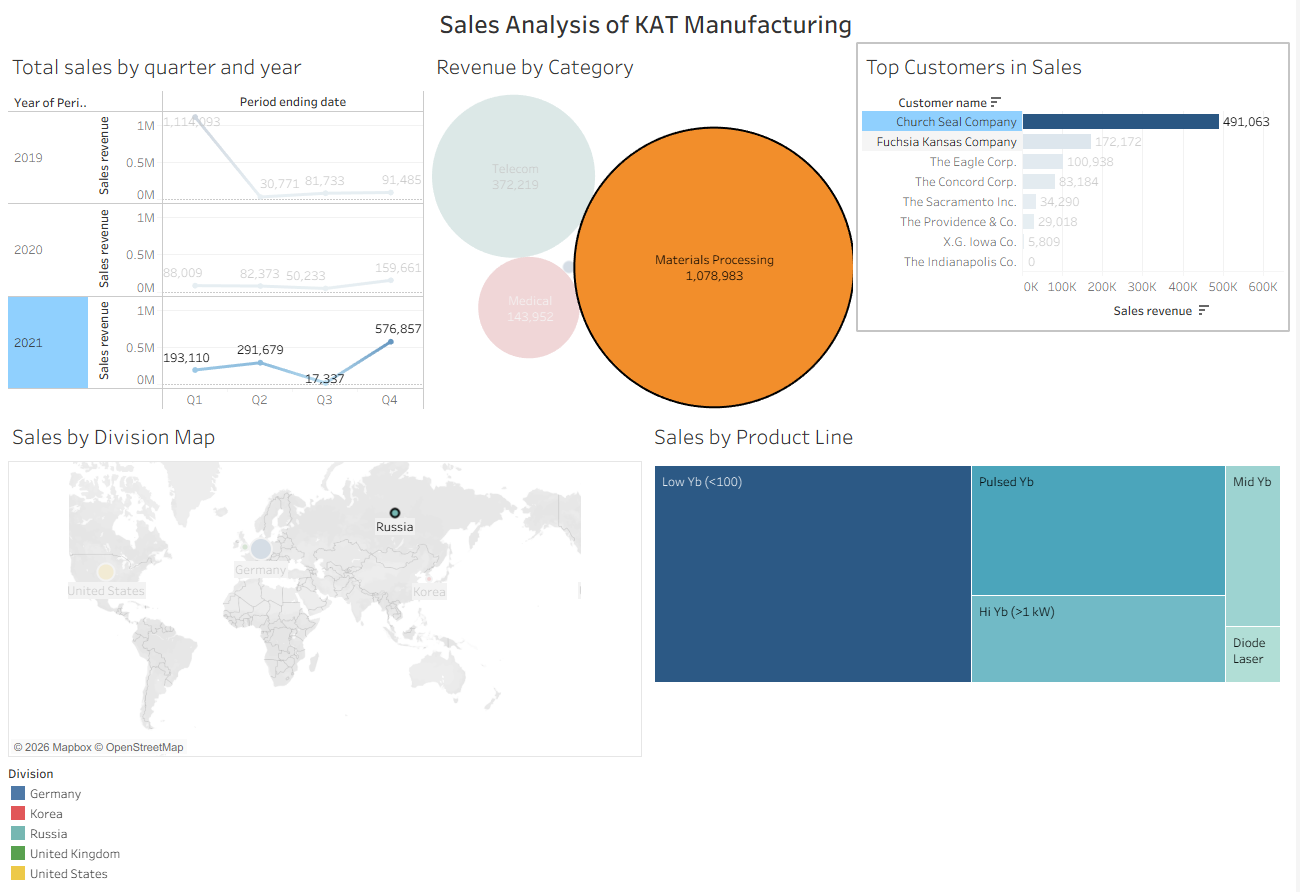

What the dashboard file says about the page in this screenshot:
{"tool":"tableau","page":{"name":"Sales Analys ","canvas":[1300,900],"ordinal":0},"visuals":[{"type":"title","box":[8,8,1284,41]},{"type":"worksheet","title":"Total sales by quarter and year","mark":"Automatic","rows":["Period ending date","Sales revenue"],"cols":["Period ending date"],"box":[8,49,424.1,369.9]},{"type":"worksheet","title":"Revenue by Category","mark":"Circle","box":[432.1,49,430,369.9]},{"type":"worksheet","title":"Top Customers in Sales","mark":"Automatic","rows":["Customer name"],"cols":["Sales revenue"],"box":[862,49,430,286]},{"type":"worksheet","title":"Sales by Division Map","mark":"Automatic","box":[8,418.9,642,347.1]},{"type":"worksheet","title":"Sales by Product Line","mark":"Automatic","box":[650,418.9,642,277]},{"type":"legend","title":"Sales by Division Map","param":"[federated.18f8ey30yjua4512h5aem0g9wjfs].[none:Division:nk]","box":[8,766,642,126]}]}

Visuals, with their boxes in screenshot pixels (x1, y1, x2, y2), scaled from the page's 1300x900 canvas onto the 1300x892 screenshot:
title: x1=8, y1=8, x2=1292, y2=49
"Total sales by quarter and year" worksheet: x1=8, y1=49, x2=432, y2=415
"Revenue by Category" worksheet (Circle marks): x1=432, y1=49, x2=862, y2=415
"Top Customers in Sales" worksheet: x1=862, y1=49, x2=1292, y2=332
"Sales by Division Map" worksheet: x1=8, y1=415, x2=650, y2=759
"Sales by Product Line" worksheet: x1=650, y1=415, x2=1292, y2=690
"Sales by Division Map" legend: x1=8, y1=759, x2=650, y2=884
